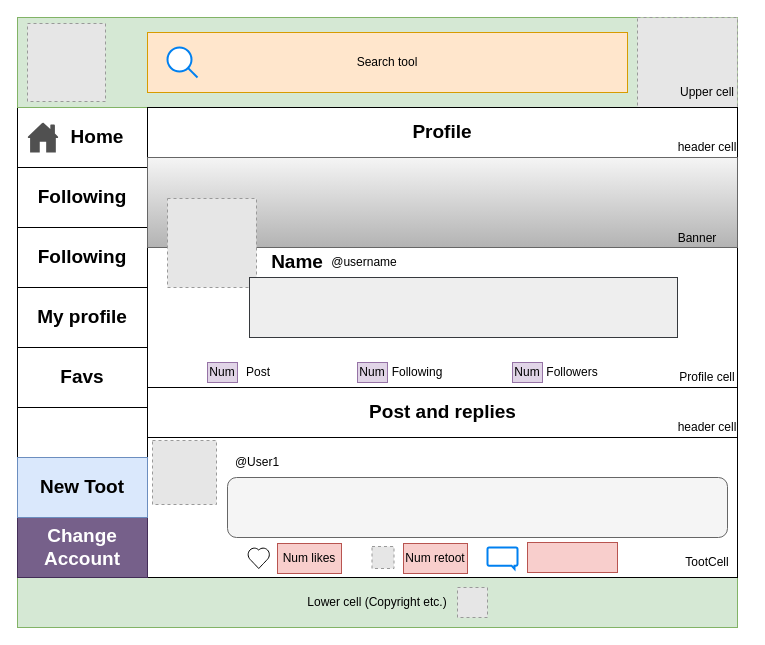
Some shapes in this 765 by 645 pixel diagram are drawn without their labels. Grey dashed boxes stand in for pictures. The shapes that lost their labels are listed below. From the top down, each one's centre as x and y in pixels, then its label:
point 463,307: Description
point 477,507: Text
point 572,557: Num comments
